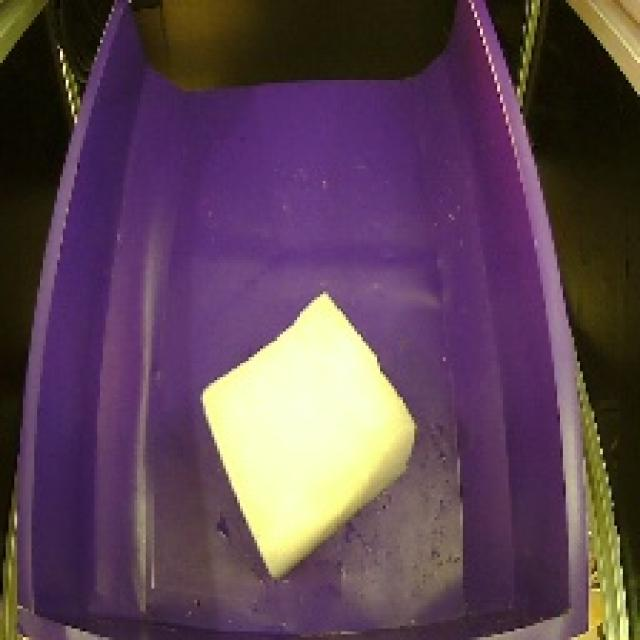white_radish: (196, 276, 435, 588)
